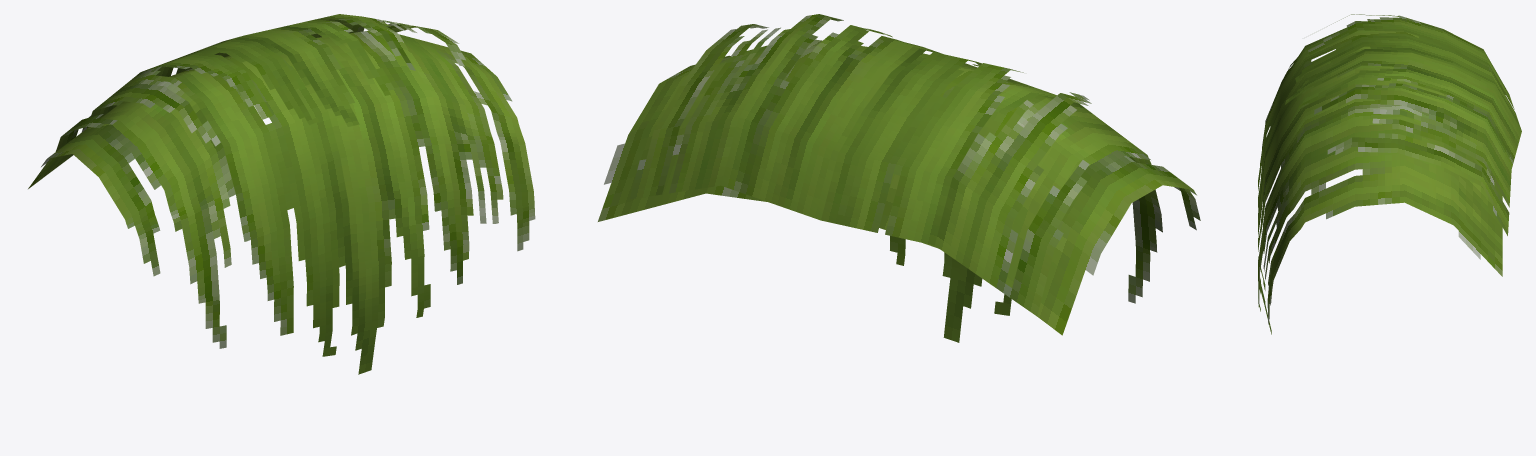
The model's file is Edge_grass01.fbx.
3 views of the same model, side by side, from view 1: azimuth 30°, elevation 25°; view 2: azimuth 150°, elevation 25°; view 3: azimuth 270°, elevation 25° (orthographic). The views are drawn at different scales.
Parts seen in each view (by area): view 1: pPlane25, pPlane27; view 2: pPlane27, pPlane25; view 3: pPlane25, pPlane27.
Part boxes in pixels (left/top/right/bottom): pPlane25: left=28, top=30, right=535, bottom=374; pPlane27: left=55, top=14, right=465, bottom=151; pPlane27: left=629, top=14, right=1091, bottom=316; pPlane25: left=598, top=39, right=1200, bottom=342; pPlane25: left=1258, top=27, right=1502, bottom=334; pPlane27: left=1285, top=14, right=1521, bottom=235.
Bounding box in the file's own units: 0.541 × 0.4213 × 0.322.
